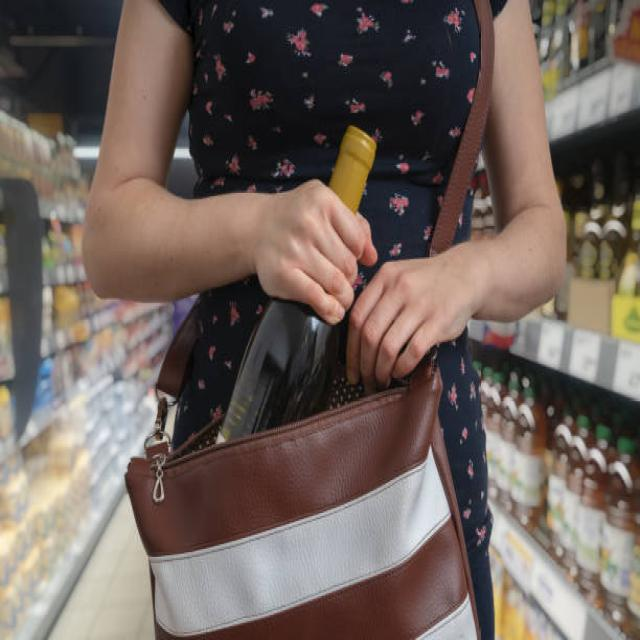article: (220, 300, 339, 439), (328, 125, 374, 212)
bags: (125, 350, 479, 638), (433, 0, 493, 249)
hands: (346, 243, 487, 392), (252, 177, 376, 320)
person: (84, 0, 564, 635)
